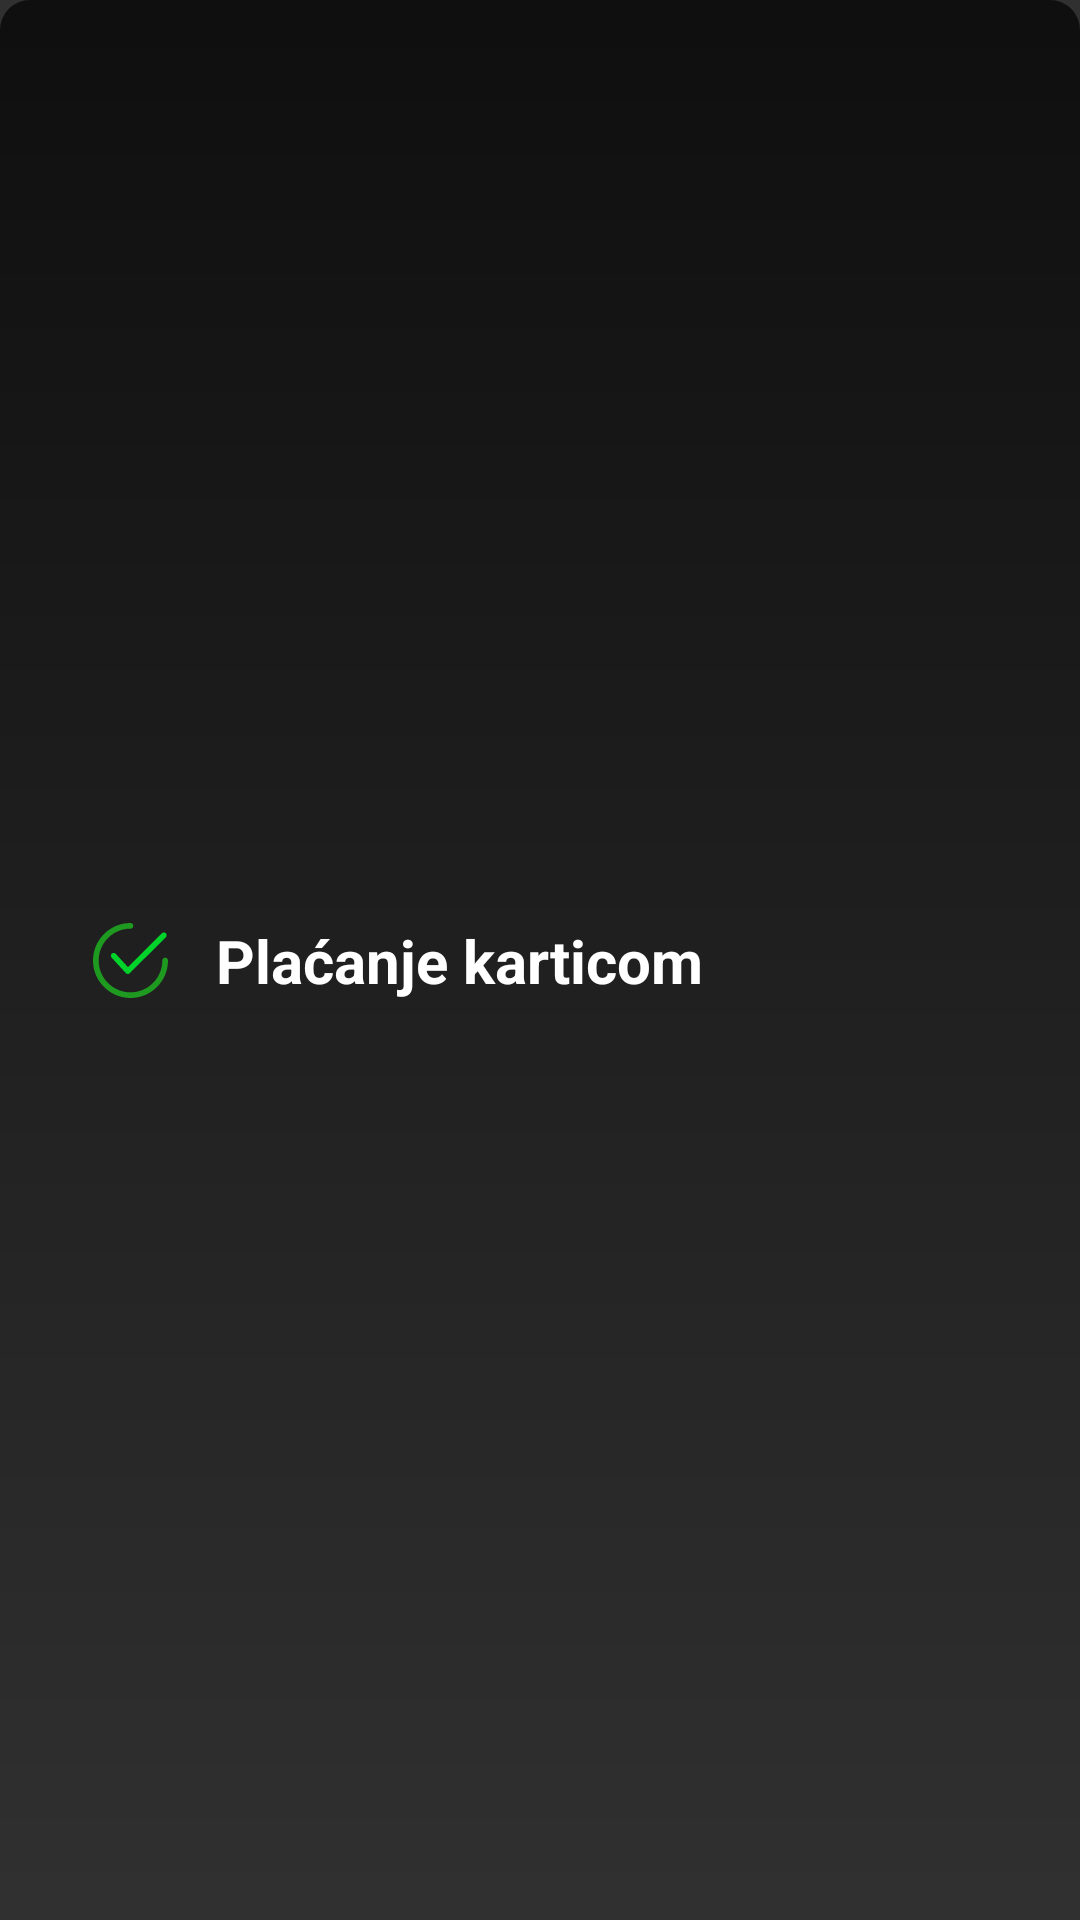

Icons on this 1080 × 1920 Android screen, each with the point to tap as [x,y]:
check: [130,960]
